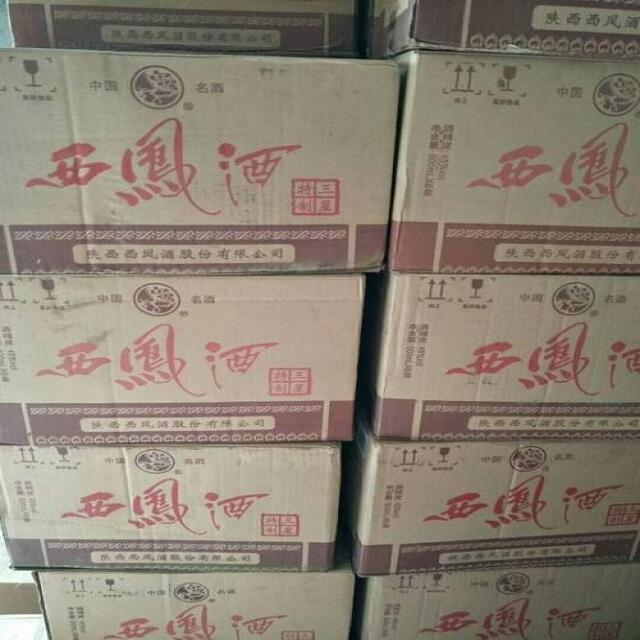box: (0, 46, 398, 273), (0, 273, 363, 443), (385, 53, 636, 276), (344, 415, 639, 575), (371, 272, 639, 440), (0, 439, 338, 568), (32, 532, 354, 637), (4, 0, 372, 60), (361, 564, 639, 637), (373, 0, 638, 60)
